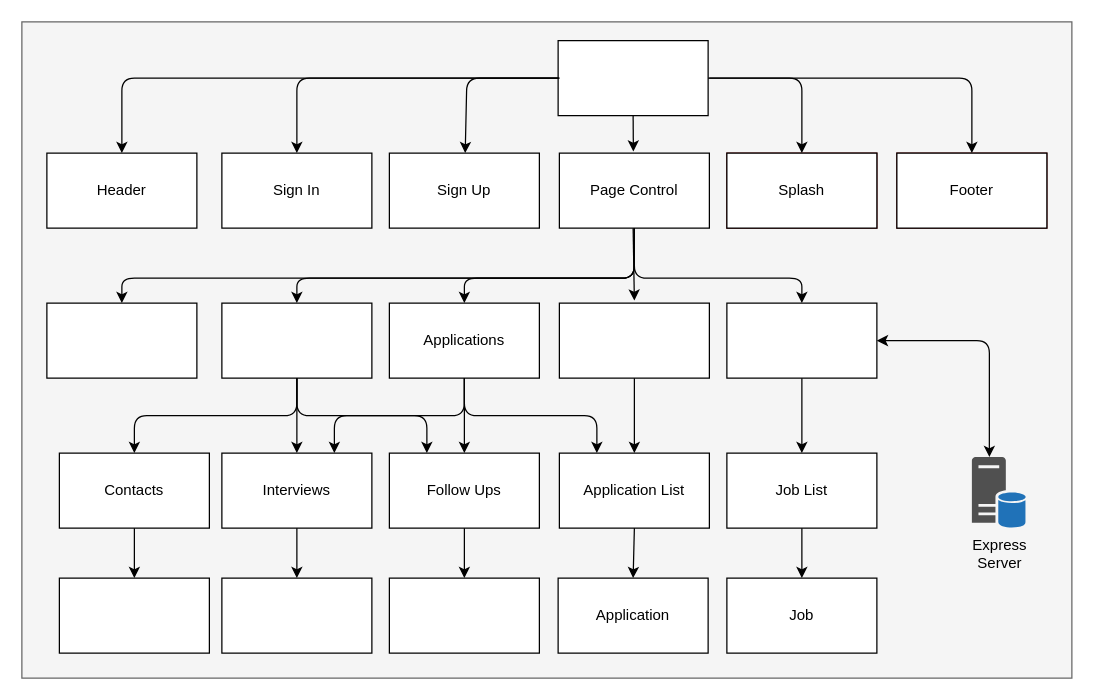
This 1094x700 diagram has some shape labels left out. The shapes that lost their labels are listed below. From the top down, each one's box as (x1, y1, x2, y2) in pixels, then its label:
(557, 39, 708, 116): App
(46, 302, 197, 378): Manage Application
(221, 302, 372, 378): Application Detail
(558, 302, 709, 378): Dashboard
(726, 302, 877, 378): Search
(58, 577, 209, 653): Contact
(221, 577, 372, 653): Interview
(388, 577, 539, 653): Follow Up
